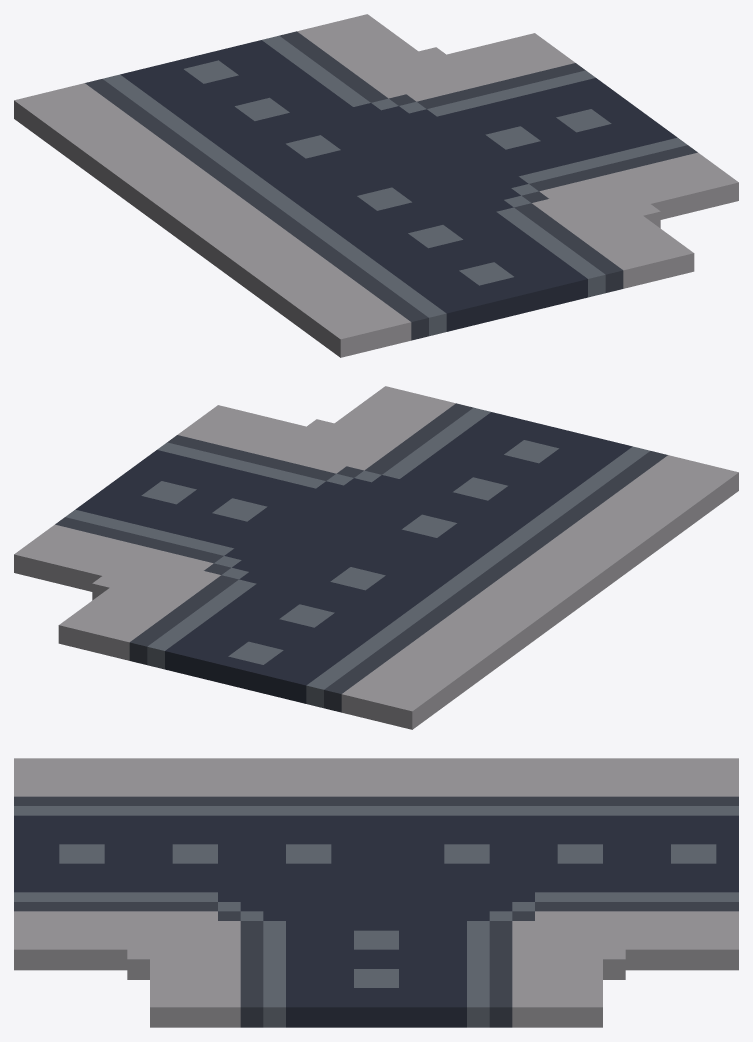
Rendered from Road(1)-1-road 2.obj.
3 renders of one model, top to bottom at view 1: azimuth 30°, elevation 25°; view 2: azimuth 150°, elevation 25°; view 3: azimuth 270°, elevation 25°, orthographic. The views are drawn at different scales.
Visible parts, largest first — view 1: road 2; view 2: road 2; view 3: road 2.
Boxes of the visible parts, x1,y1,x2,y2 form: road 2: [14, 14, 738, 357]; road 2: [14, 386, 738, 729]; road 2: [14, 758, 738, 1027].
Bounding box in the file's own units: 2.6 × 0.1 × 3.2.
Materials: 1 (1 with a texture image).
